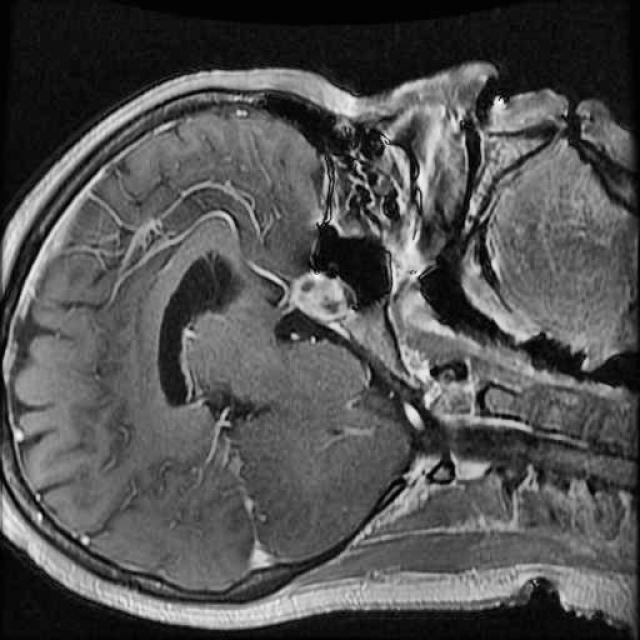Tumor: (285, 262, 361, 336)
